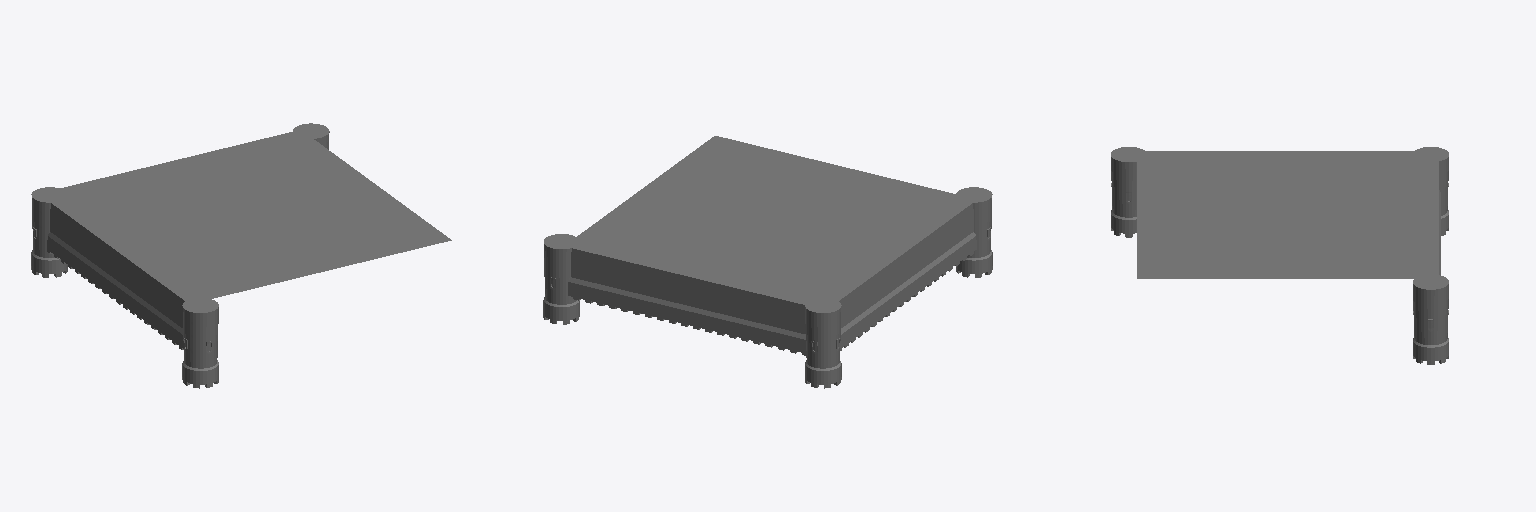
The model's file is tower.obj.
3 renders of one model, left to right at view 1: azimuth 30°, elevation 25°; view 2: azimuth 150°, elevation 25°; view 3: azimuth 270°, elevation 25°, orthographic.
Parts seen in each view (by area): view 1: Plane.006_Plane.004; view 2: Plane.006_Plane.004; view 3: Plane.006_Plane.004.
Part boxes in pixels (bbox=[...]): Plane.006_Plane.004: bbox=[31, 123, 451, 388]; Plane.006_Plane.004: bbox=[543, 136, 992, 388]; Plane.006_Plane.004: bbox=[1111, 147, 1448, 364].
Size of the model in its own units: 404 by 99.15 by 404.